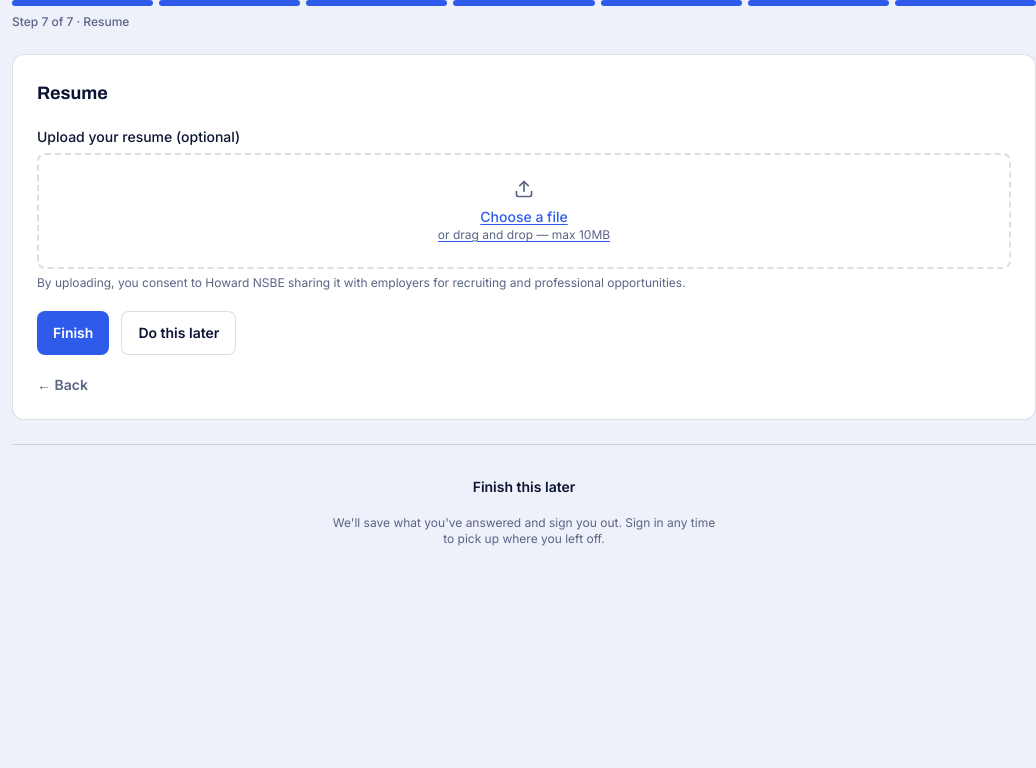
finishing the last outstanding step releases the member › a refused finish keeps the member here and says so, rather than pretending to be done
The width and height of the screenshot is (1036, 768).
Click the button "Do this later".
click(179, 333)  # box [121,311,236,355]
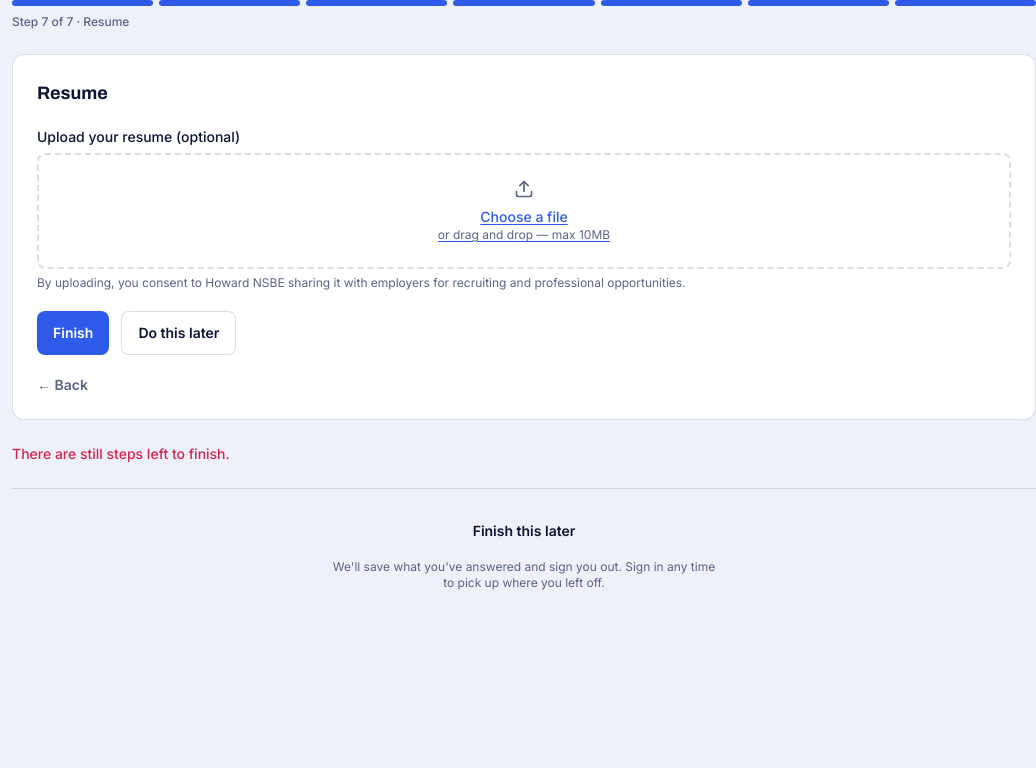
Expected: the message shows "still steps left", [12,445,230,462]
